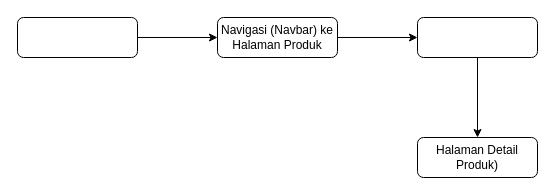
The diagram is 555 pixels wide and 195 high, and some of its shapes have lost their labels. Here are the shapes that lost their labels. From the top down, the box of each, then its label:
(16, 16, 138, 58): Halaman Beranda
(416, 16, 538, 58): Halaman Produk (Daftar Produk)
